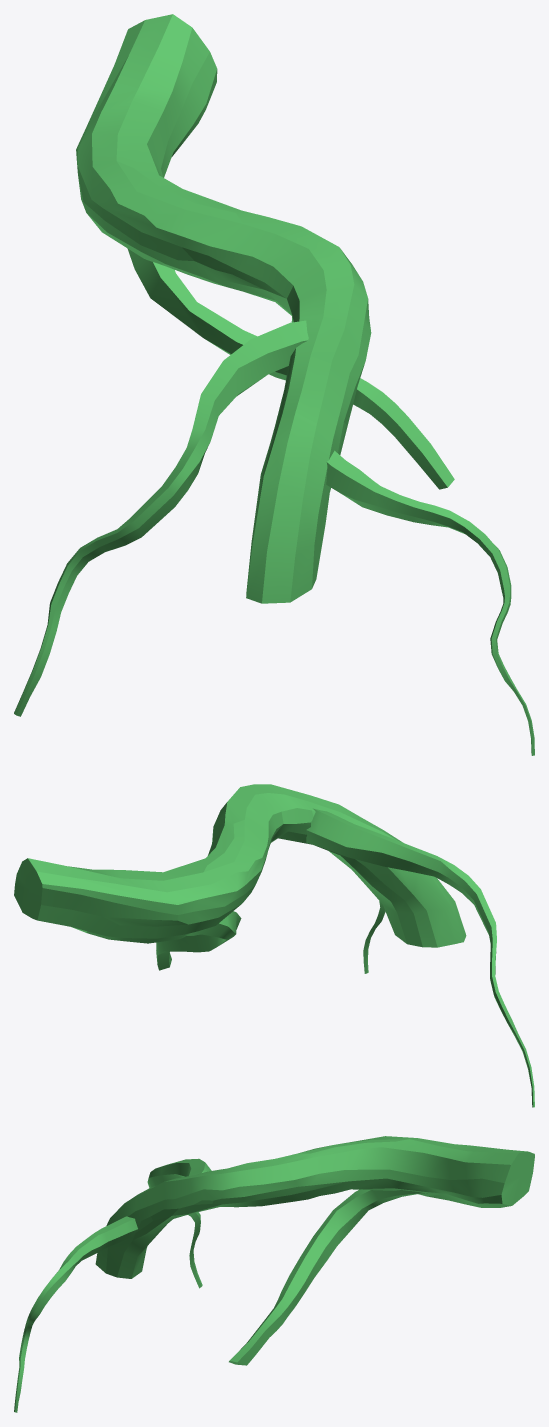
Rendered from jungle_trunk_ground_D.fbx.
3 renders of one model, top to bottom at view 1: azimuth 30°, elevation 25°; view 2: azimuth 150°, elevation 25°; view 3: azimuth 270°, elevation 25°, orthographic. The views are drawn at different scales.
Parts seen in each view (by area): view 1: jungle_trunk_ground_D, jungle_trunk_ground_D_branch_A, jungle_trunk_ground_D_branch_B, jungle_trunk_ground_D_branch_C; view 2: jungle_trunk_ground_D, jungle_trunk_ground_D_branch_A, jungle_trunk_ground_D_branch_B, jungle_trunk_ground_D_branch_C; view 3: jungle_trunk_ground_D, jungle_trunk_ground_D_branch_B, jungle_trunk_ground_D_branch_C, jungle_trunk_ground_D_branch_A.
Boxes of the visible parts, x1=… form: jungle_trunk_ground_D: x1=76, y1=14, x2=371, y2=603; jungle_trunk_ground_D_branch_A: x1=14, y1=320, x2=308, y2=716; jungle_trunk_ground_D_branch_B: x1=127, y1=248, x2=454, y2=489; jungle_trunk_ground_D_branch_C: x1=326, y1=450, x2=534, y2=755; jungle_trunk_ground_D: x1=14, y1=784, x2=466, y2=947; jungle_trunk_ground_D_branch_A: x1=306, y1=808, x2=534, y2=1107; jungle_trunk_ground_D_branch_B: x1=156, y1=911, x2=241, y2=970; jungle_trunk_ground_D_branch_C: x1=363, y1=901, x2=385, y2=973; jungle_trunk_ground_D: x1=95, y1=1136, x2=534, y2=1278; jungle_trunk_ground_D_branch_B: x1=229, y1=1189, x2=427, y2=1365; jungle_trunk_ground_D_branch_C: x1=14, y1=1216, x2=137, y2=1412; jungle_trunk_ground_D_branch_A: x1=147, y1=1158, x2=211, y2=1288.
Bounding box in the file's own units: 697 × 625 × 1083.
